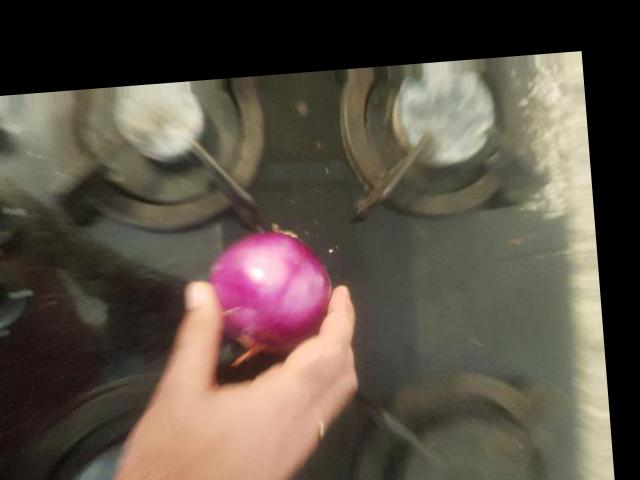onion: (316, 145, 442, 278)
